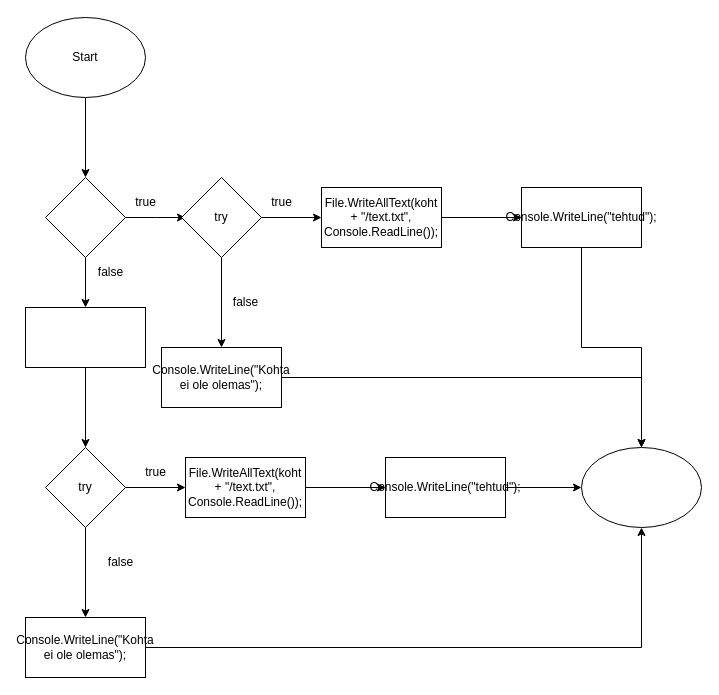
The diagram is 719 pixels wide and 695 high, and some of its shapes have lost their labels. The centre of each missing label's shape, as x and y in pixels:
Console.WriteLine("kohta ei ole valitud");: point 85,337
End: point 641,487
if (koht != ""): point 85,217
